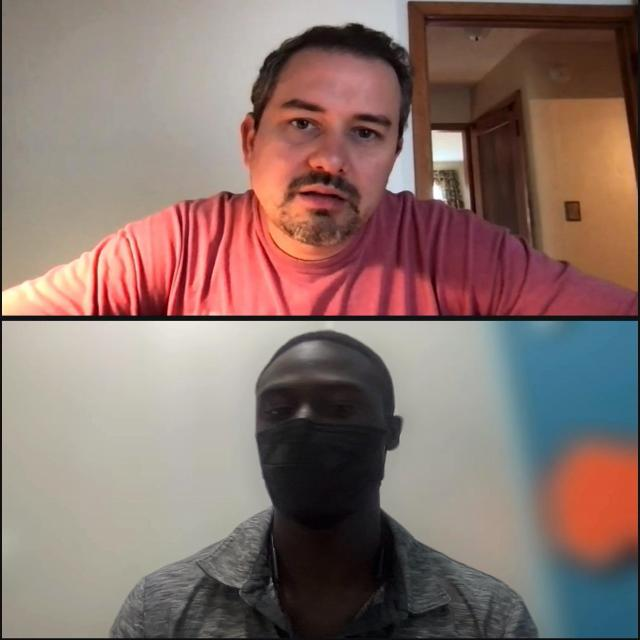face: (243, 42, 409, 248), (254, 341, 402, 526)
